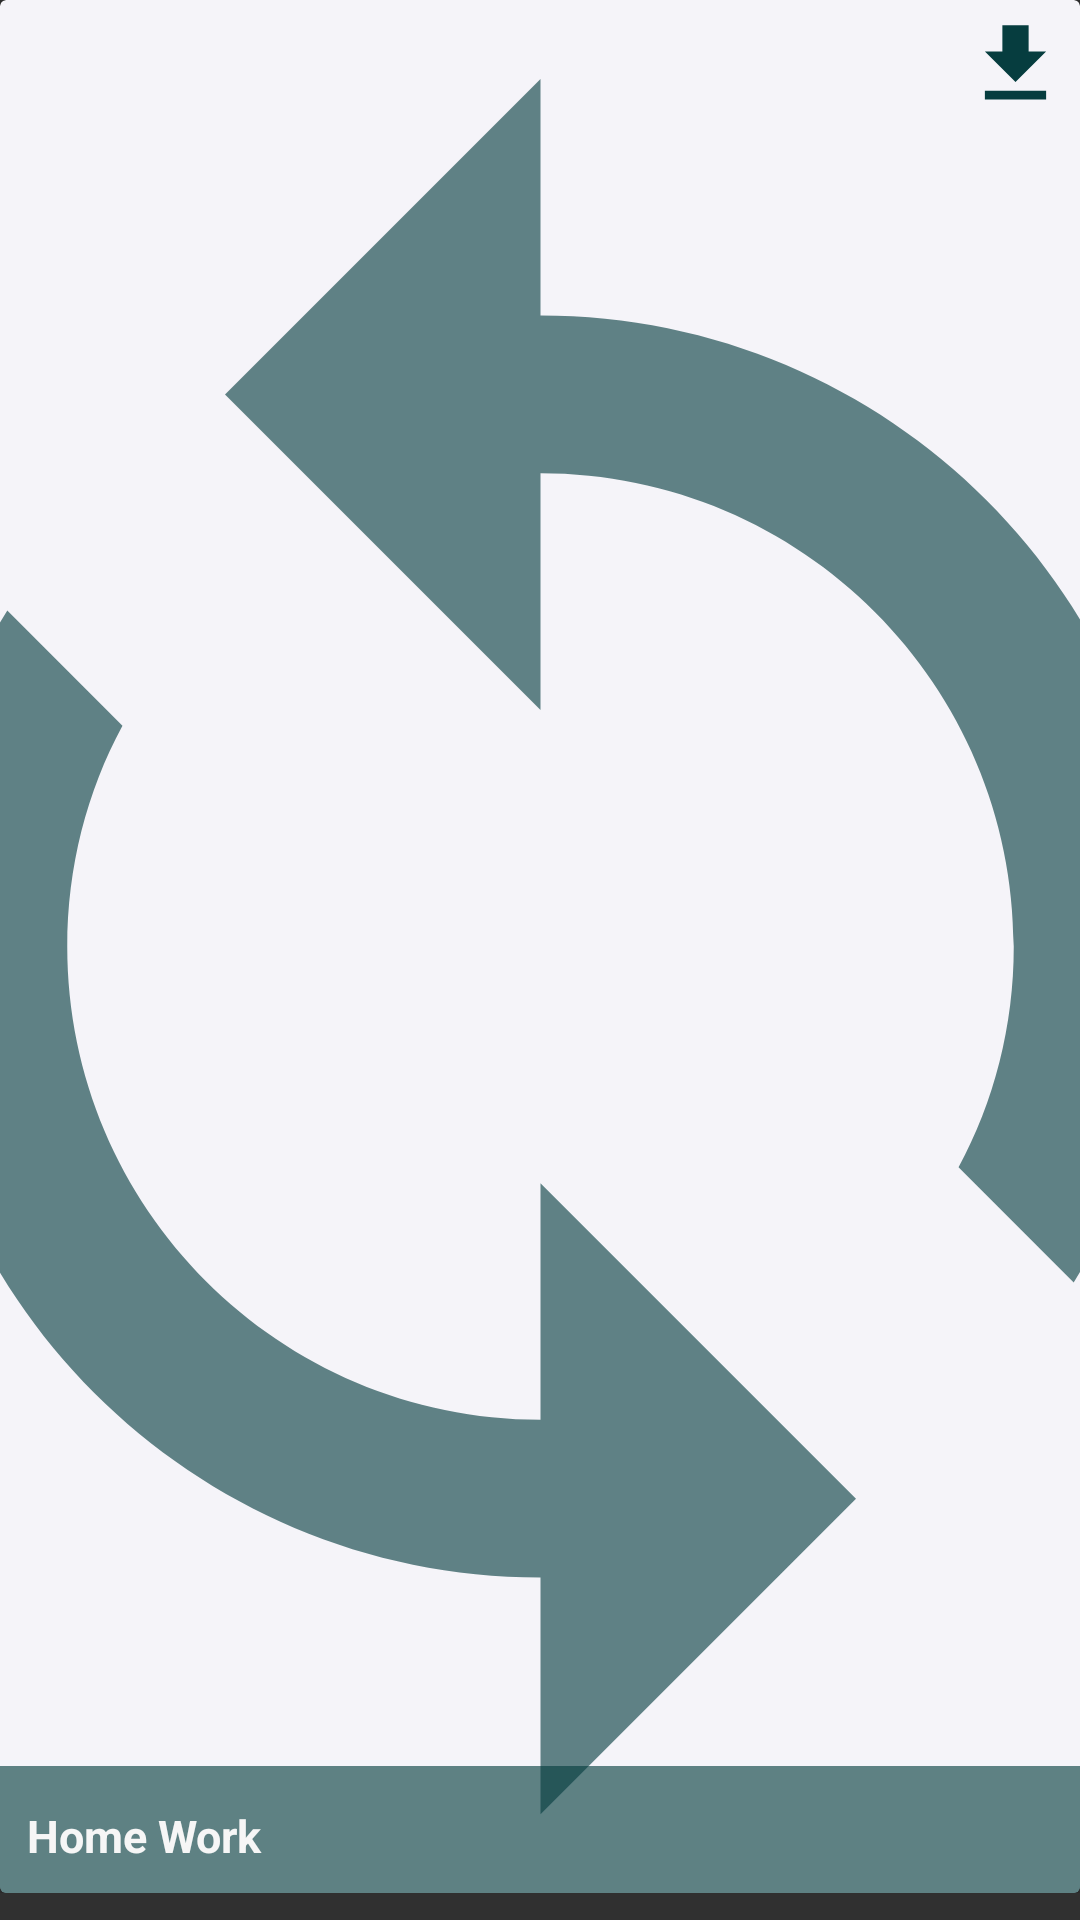

Point at icon controls on the screen. Image size 1080×1920, points as point (x, y).
file download: point (1015, 62)
